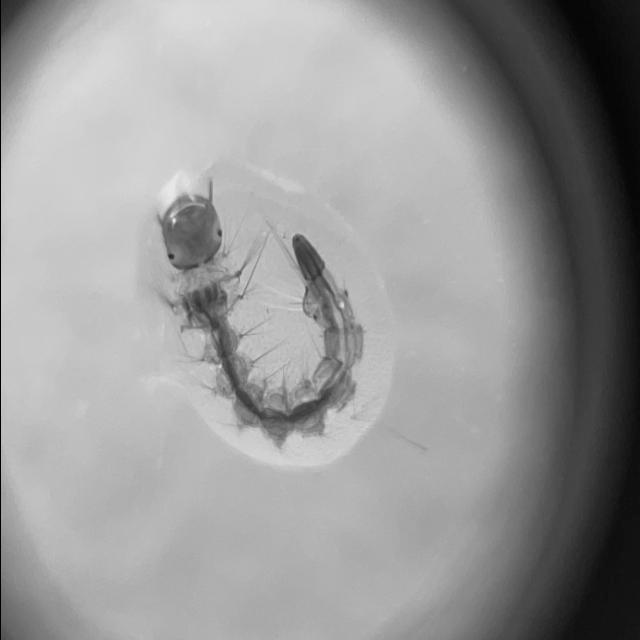larvas: (167, 195, 363, 437)
